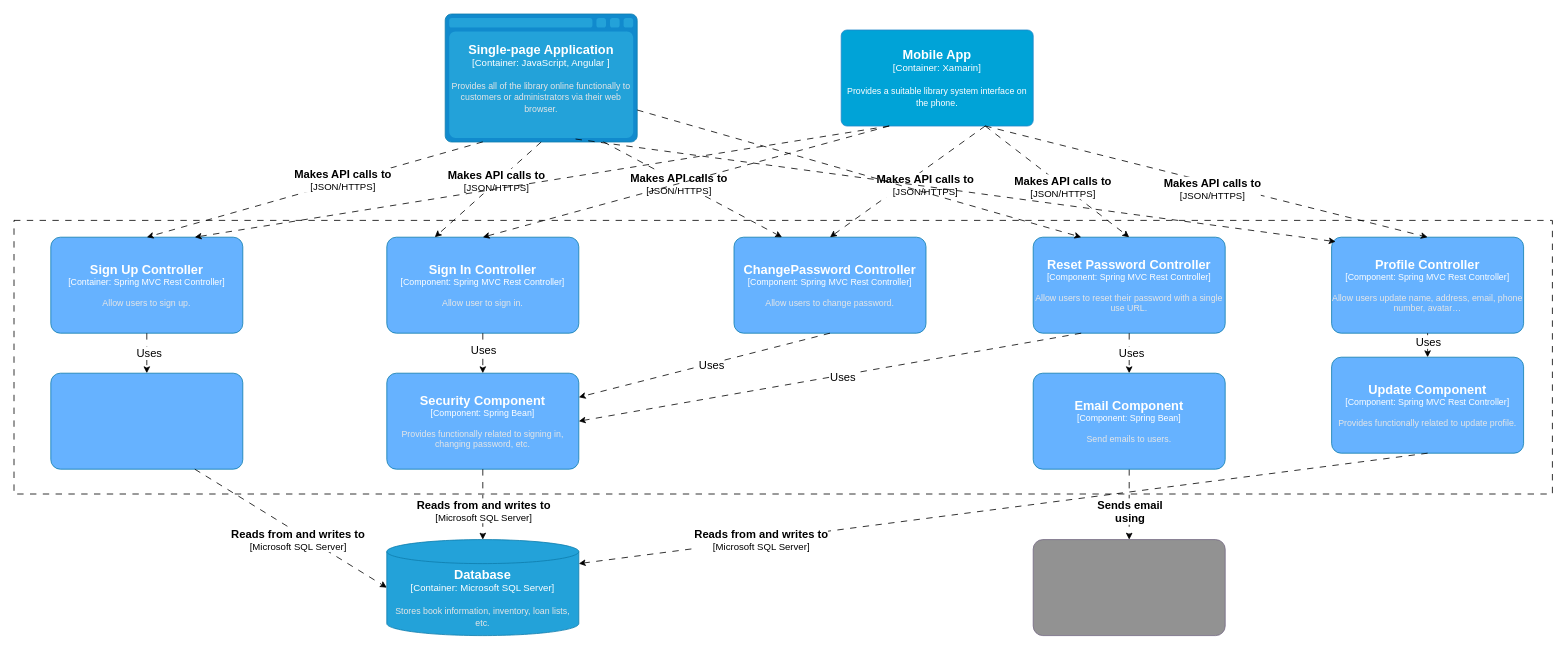
Some shapes in this 1566 by 650 pixel diagram are drawn without their labels. The centre of each missing label's shape, as x and y in pixels:
"E-mail System [Software System] The internal email system." goes at point (1128, 587).
"Sign Up Component [Container: Spring MVC Rest Controller] Create an account." goes at point (146, 420).
